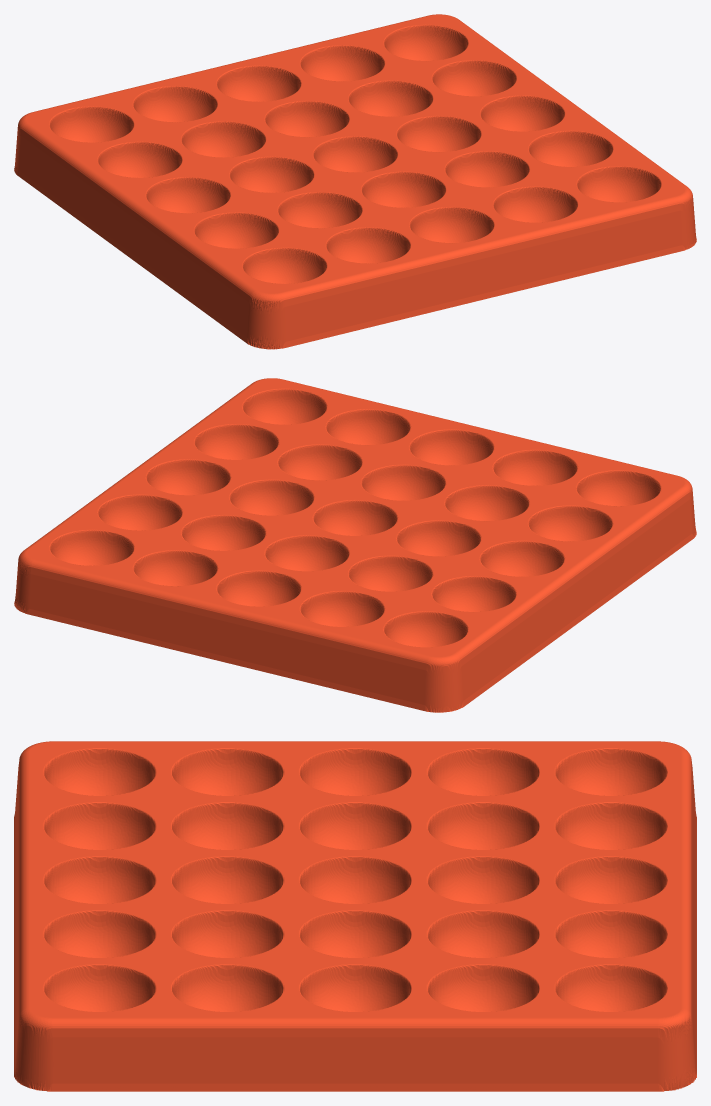
Rendered from mold.glb.
3 renders of one model, top to bottom at view 1: azimuth 30°, elevation 25°; view 2: azimuth 150°, elevation 25°; view 3: azimuth 270°, elevation 25°, orthographic. The views are drawn at different scales.
Parts seen in each view (by area): view 1: geometry_0; view 2: geometry_0; view 3: geometry_0.
Part boxes in pixels (box(x1,y1,x2,y2)): geometry_0: box(14, 14, 696, 349); geometry_0: box(14, 378, 696, 712); geometry_0: box(14, 741, 696, 1091).
Bounding box in the file's own units: 0.1584 × 0.0172 × 0.1584.
